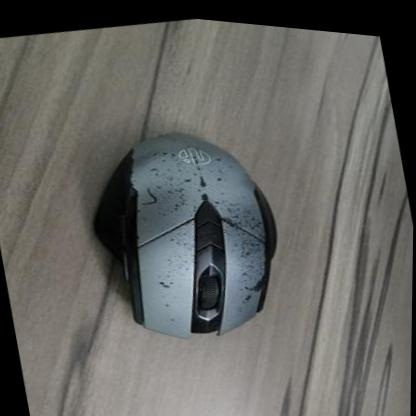mouserotation: (76, 103, 299, 358)
